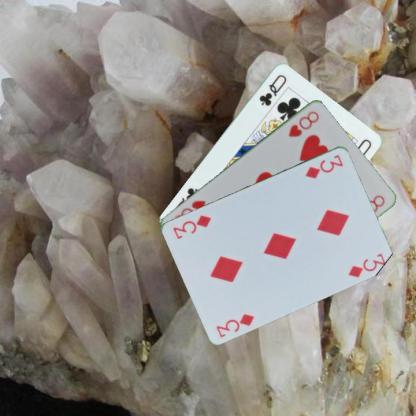3d: (214, 310, 256, 339), (303, 152, 344, 180)
8h: (286, 108, 320, 138)
Qc: (256, 71, 288, 107)
